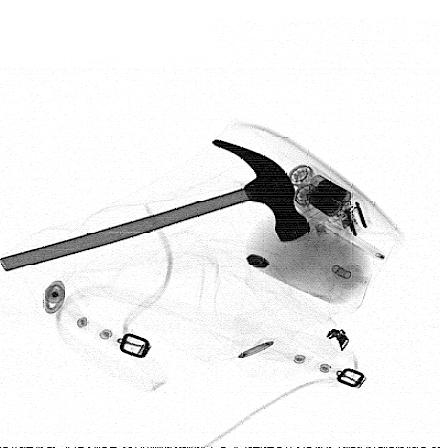Hammer: (1, 138, 311, 270)
